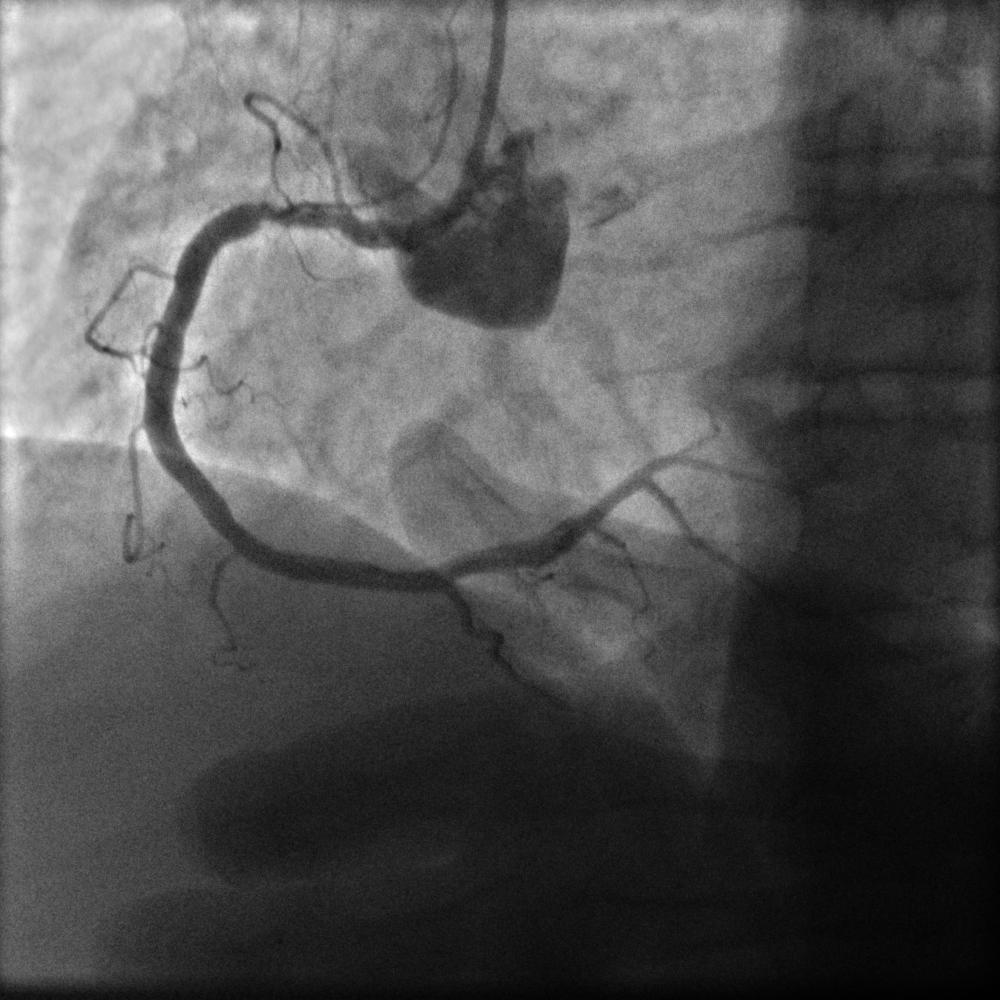Stenosis: (253, 191, 356, 242)
